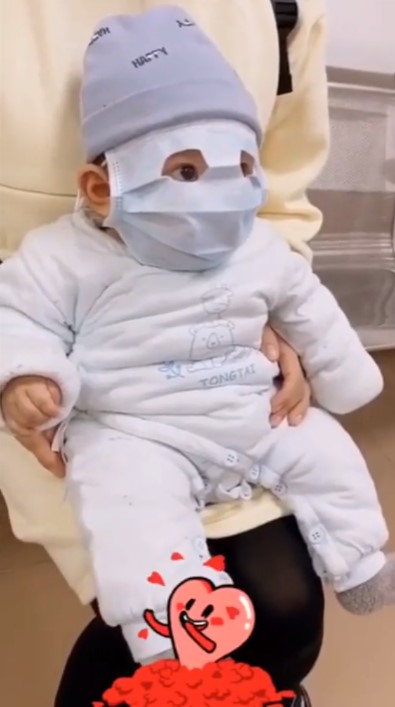face_with_mask: (76, 11, 262, 265)
